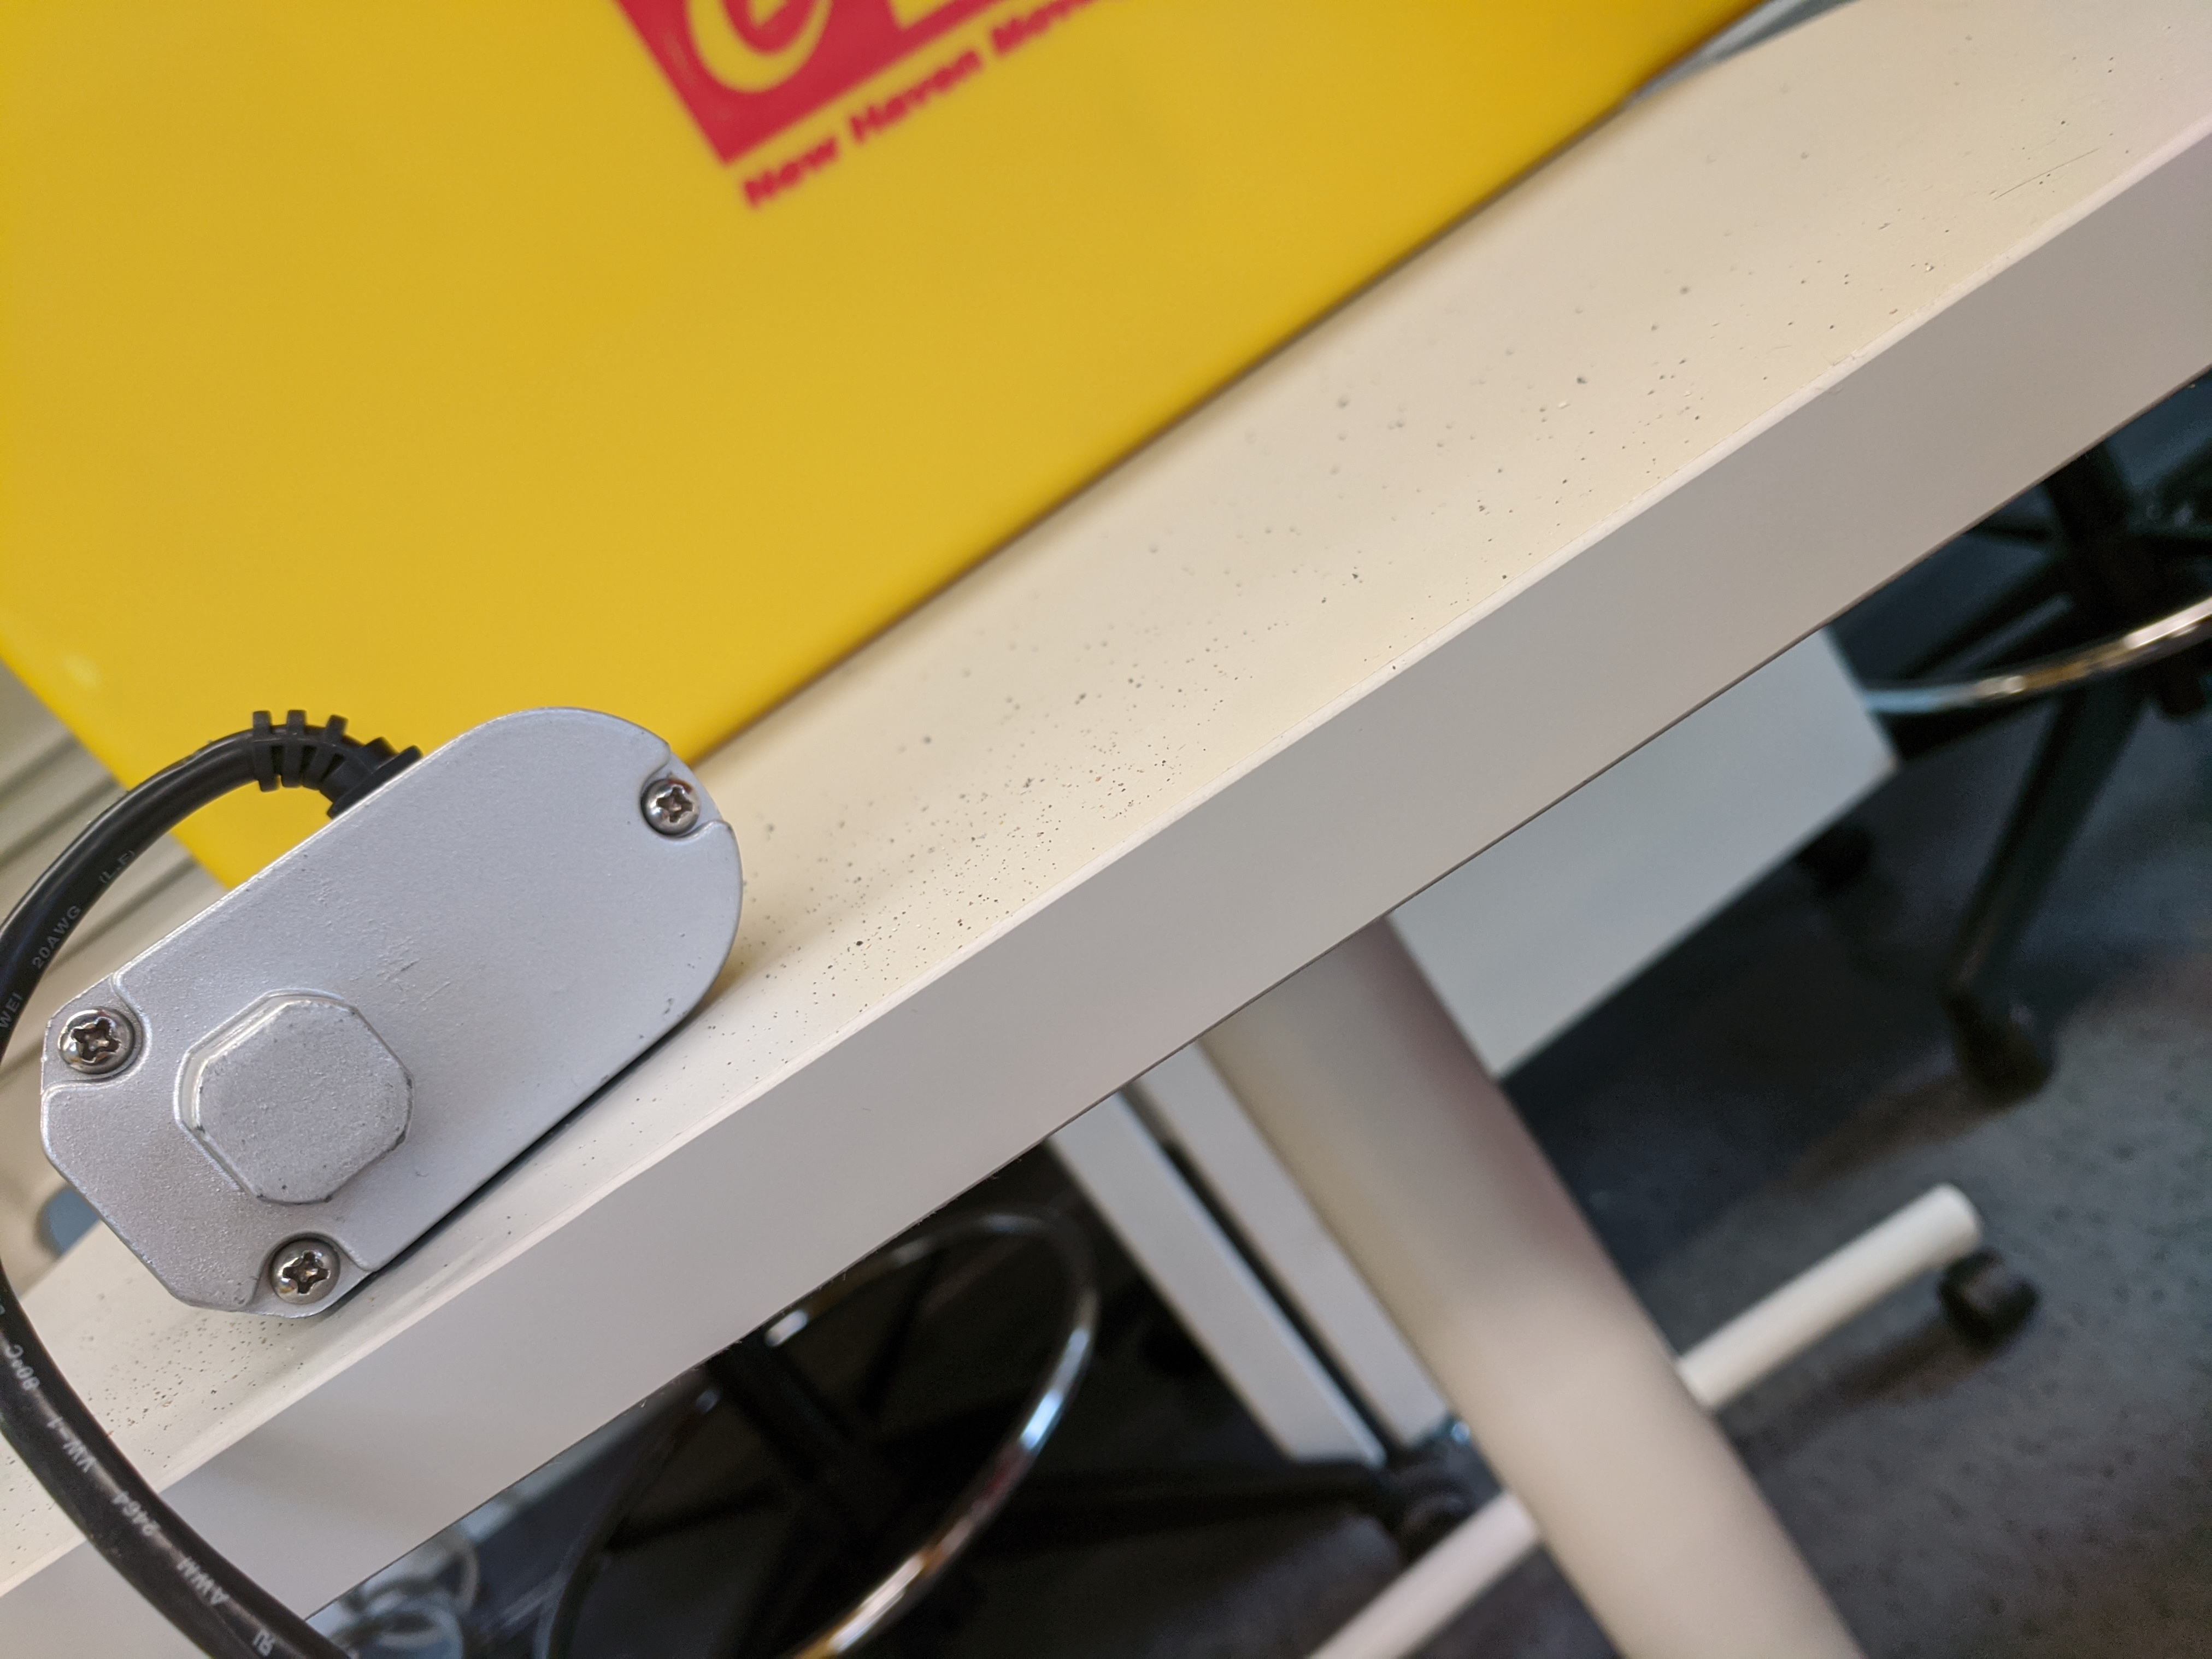cross_recessed_screw: (256, 1222, 340, 1309), (54, 1006, 138, 1075), (632, 763, 700, 838)
